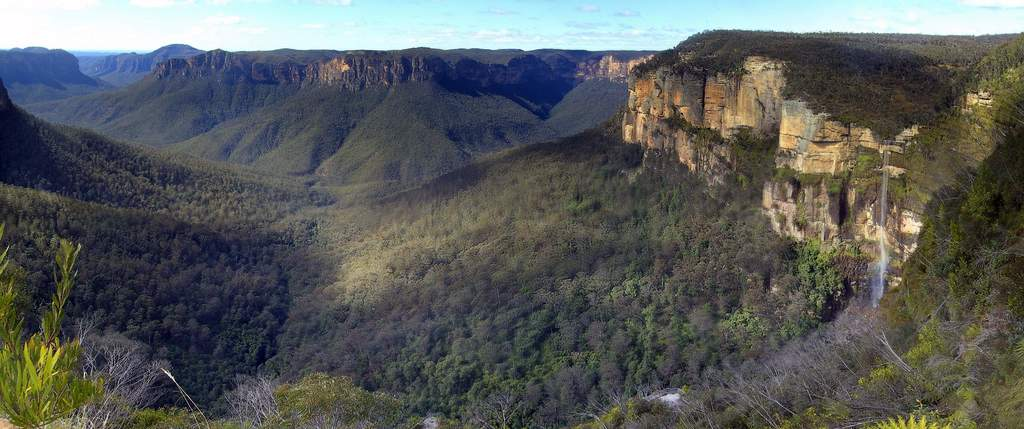Tree: (0, 28, 1024, 429)
